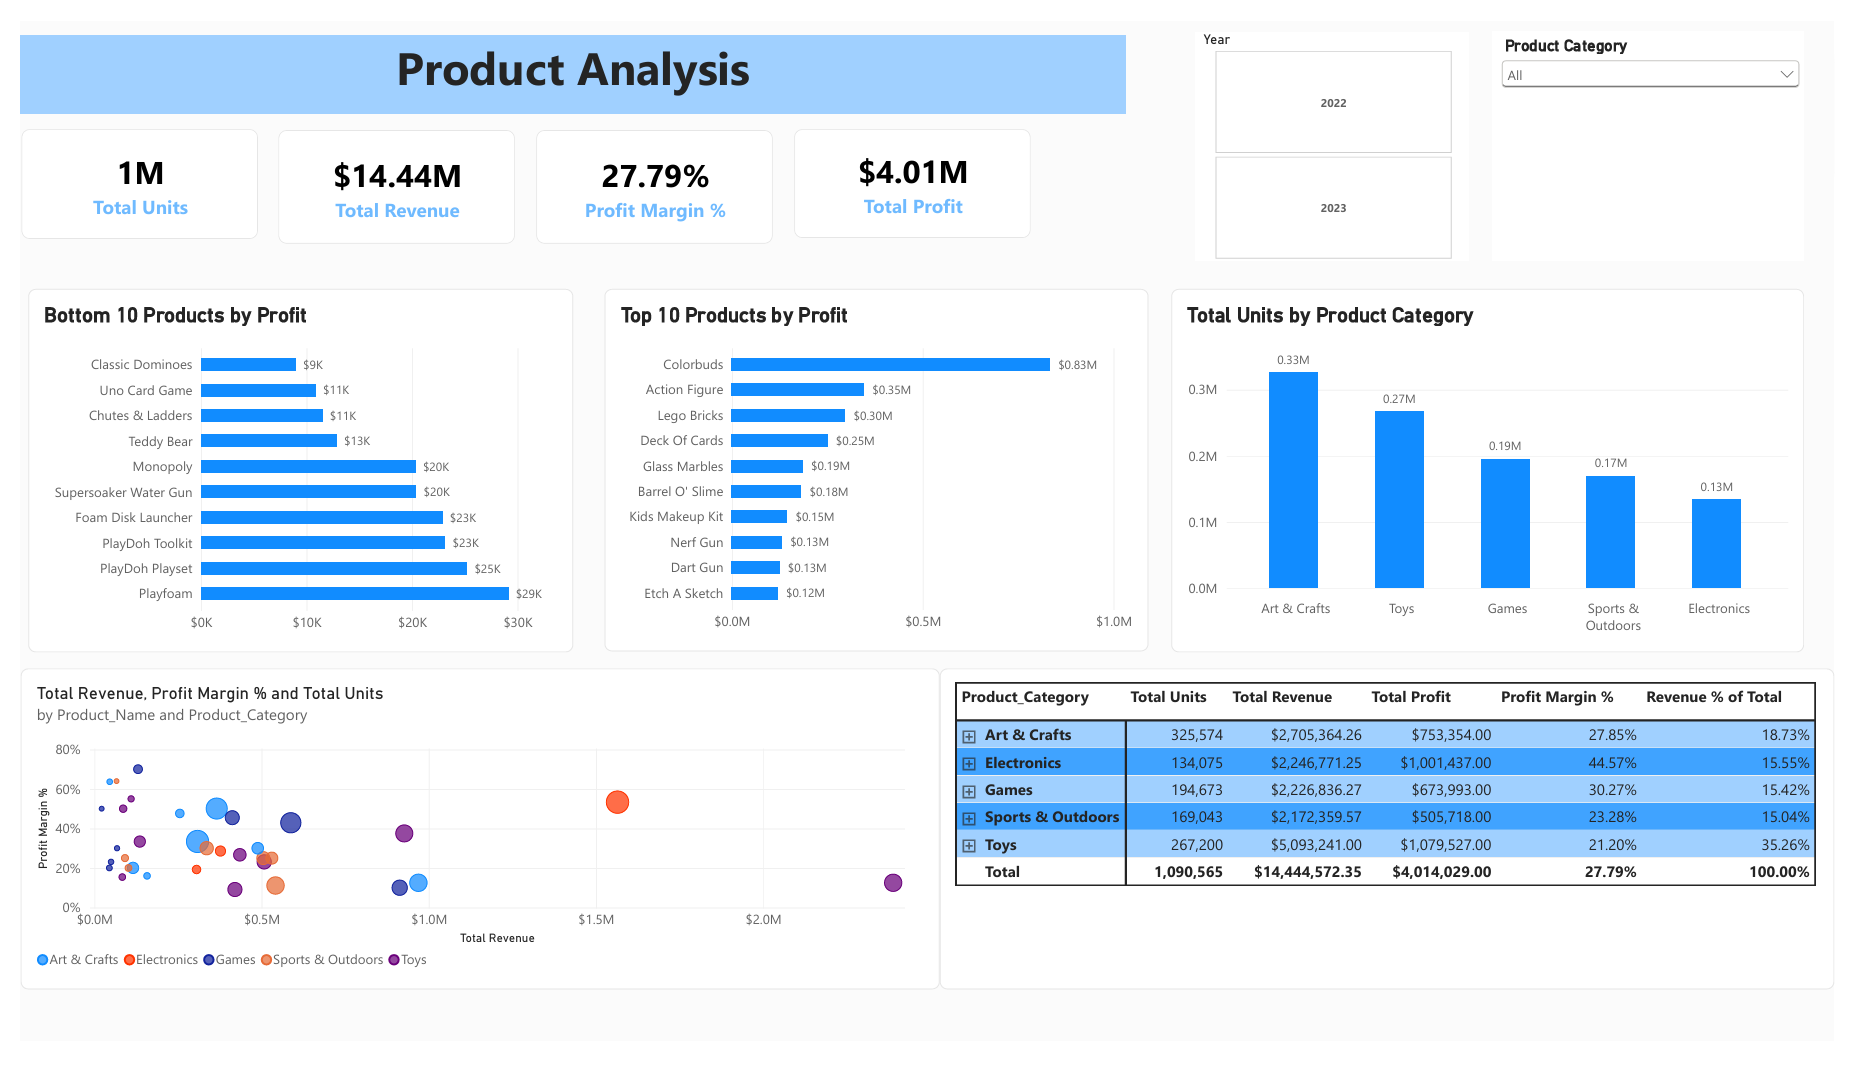

This screenshot's page, from the dashboard's own definition file:
{"tool":"powerbi","page":{"name":"Product Analysis","canvas":[1920,1080],"ordinal":1},"visuals":[{"type":"pivotTable","fields":{"Rows":["products.Product_Category","products.Product_Name"],"Values":["_Measures.Total Units","_Measures.Total Revenue","_Measures.Total Profit","_Measures.Profit Margin %","_Measures.Revenue % of Total"]},"box":[972.5,685,947.5,340],"z":0},{"type":"scatterChart","fields":{"Category":["products.Product_Name"],"Series":["products.Product_Category"],"Size":["_Measures.Total Units"],"X":["_Measures.Total Revenue"],"Y":["_Measures.Profit Margin %"]},"box":[0,685,972.5,340],"z":1000},{"type":"clusteredBarChart","title":"Top 10 Products by Profit","fields":{"Category":["products.Product_Name"],"Y":["_Measures.Total Profit"]},"box":[617.5,282.5,576,384],"z":2000},{"type":"clusteredBarChart","title":"Bottom 10 Products by Profit","fields":{"Category":["products.Product_Name"],"Y":["_Measures.Total Profit"]},"box":[7.5,282.5,577.5,385],"z":3000},{"type":"cardVisual","fields":{"Data":["_Measures.Total Units"]},"box":[1.4,114.3,250,115.7],"z":4000},{"type":"cardVisual","fields":{"Data":["_Measures.Total Revenue"]},"box":[273.4,114.7,250,120],"z":5000},{"type":"cardVisual","fields":{"Data":["_Measures.Profit Margin %"]},"box":[545.9,114.7,250,120],"z":6000},{"type":"cardVisual","fields":{"Data":["_Measures.Total Profit"]},"box":[818.6,114.3,250,114.3],"z":7000},{"type":"slicer","fields":{"Values":["products.Product_Category"]},"box":[1557.5,10,330,242.5],"z":9000},{"type":"textbox","box":[0,15,1170,82.5],"z":10000},{"type":"columnChart","title":"Total Units by Product Category","fields":{"Category":["products.Product_Category"],"Y":["_Measures.Total Units"]},"box":[1217.5,282.5,670,385],"z":11000},{"type":"slicer","fields":{"Values":["calendar.Year"]},"box":[1244.4,10.8,290,242.4],"z":11001}]}

Visuals, with their boxes in screenshot pixels (x1, y1, x2, y2), scaled from the page's 1920x1080 canvas onto the 1856x1065 screenshot:
pivotTable - products.Product_Category x products.Product_Name: locate(940, 675, 1855, 1011)
scatterChart - products.Product_Name x products.Product_Category: locate(0, 675, 940, 1011)
"Top 10 Products by Profit" clusteredBarChart: locate(597, 279, 1154, 657)
"Bottom 10 Products by Profit" clusteredBarChart: locate(7, 279, 566, 658)
cardVisual - _Measures.Total Units: locate(1, 113, 243, 227)
cardVisual - _Measures.Total Revenue: locate(264, 113, 506, 231)
cardVisual - _Measures.Profit Margin %: locate(528, 113, 769, 231)
cardVisual - _Measures.Total Profit: locate(791, 113, 1033, 225)
slicer - products.Product_Category: locate(1506, 10, 1825, 249)
textbox: locate(0, 15, 1131, 96)
"Total Units by Product Category" columnChart: locate(1177, 279, 1825, 658)
slicer - calendar.Year: locate(1203, 11, 1483, 250)
